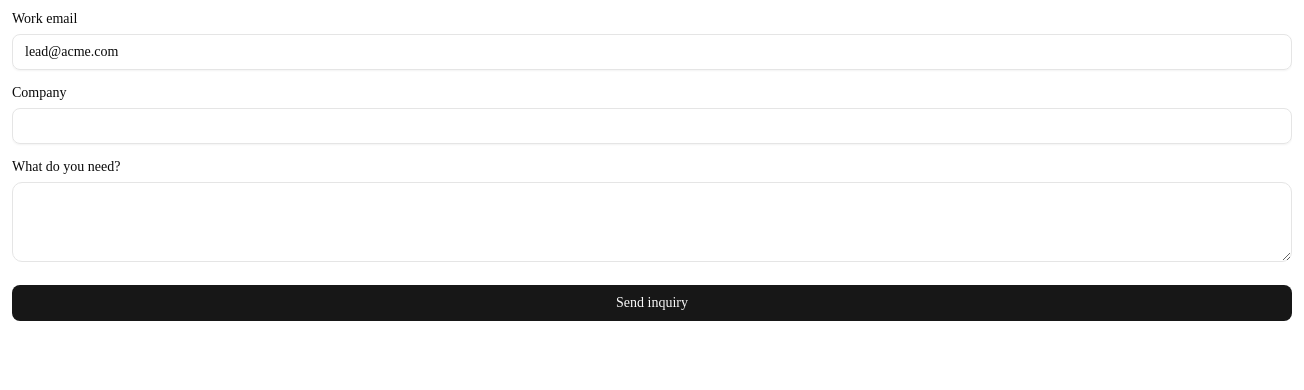
Scenario: EnterpriseInquiryForm › shows an API error in an alert
The image size is (1304, 390).
Click the button "Send inquiry": (652, 303) [12,285,1292,321]
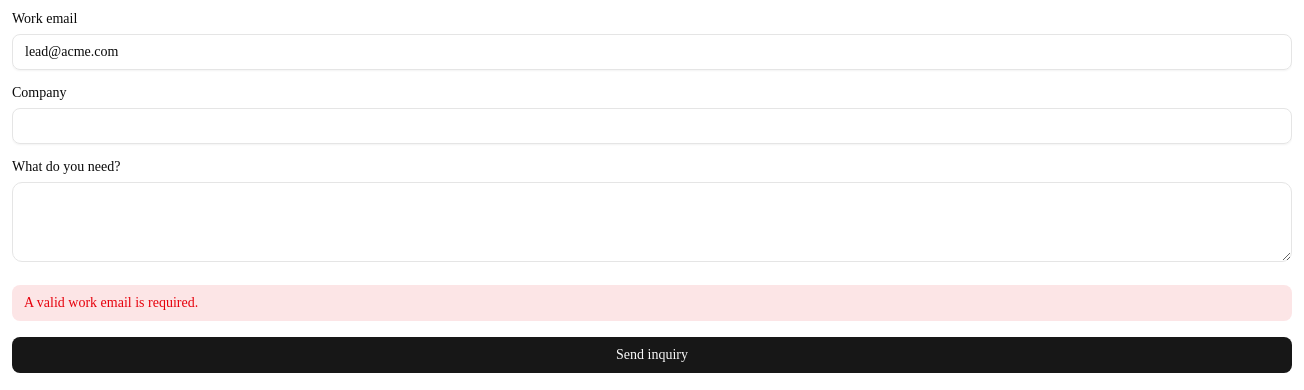
Expected: the message reads "A valid work email is required.", [24,295,198,310]
